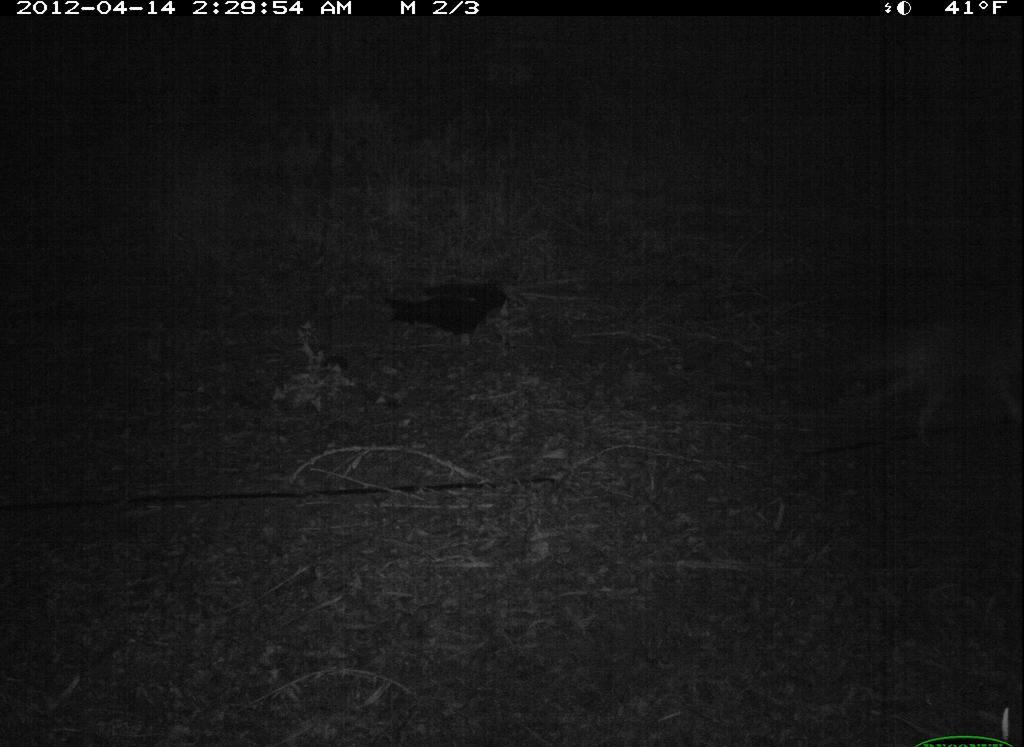coyote: (844, 301, 1022, 460)
